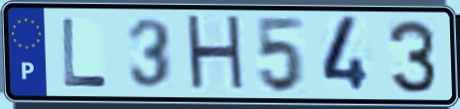3: (385, 17, 439, 96), (124, 16, 175, 91)
4: (318, 13, 377, 99)
5: (252, 14, 310, 95)
H: (182, 12, 249, 96)
L: (59, 16, 109, 90)
